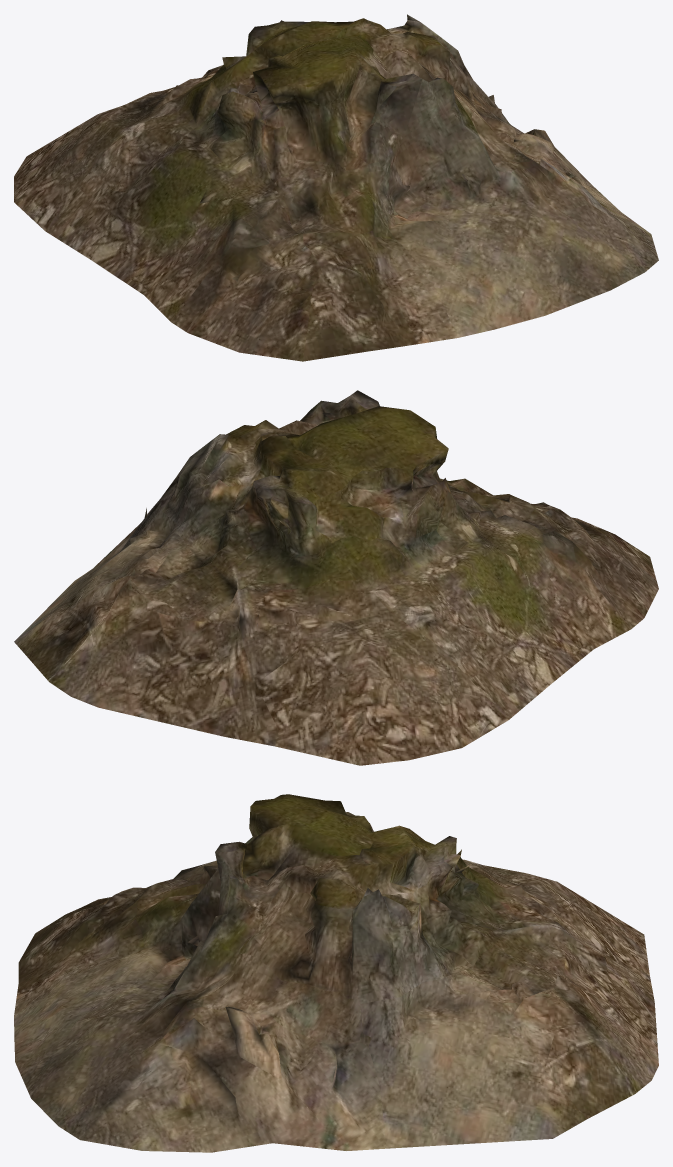
File: tree_stump_01.glb
The picture shows the model from 3 angles, top to bottom: view 1: azimuth 30°, elevation 25°; view 2: azimuth 150°, elevation 25°; view 3: azimuth 270°, elevation 25°; orthographic projection. The views are drawn at different scales.
Parts seen in each view (by area): view 1: tree_stump_01; view 2: tree_stump_01; view 3: tree_stump_01.
Part boxes in pixels (x1=…): tree_stump_01: x1=14, y1=14, x2=658, y2=361; tree_stump_01: x1=14, y1=390, x2=658, y2=765; tree_stump_01: x1=14, y1=794, x2=658, y2=1152.
Size of the model in its own units: 1.43 by 0.571 by 1.59.
1 material, 1 textured.
